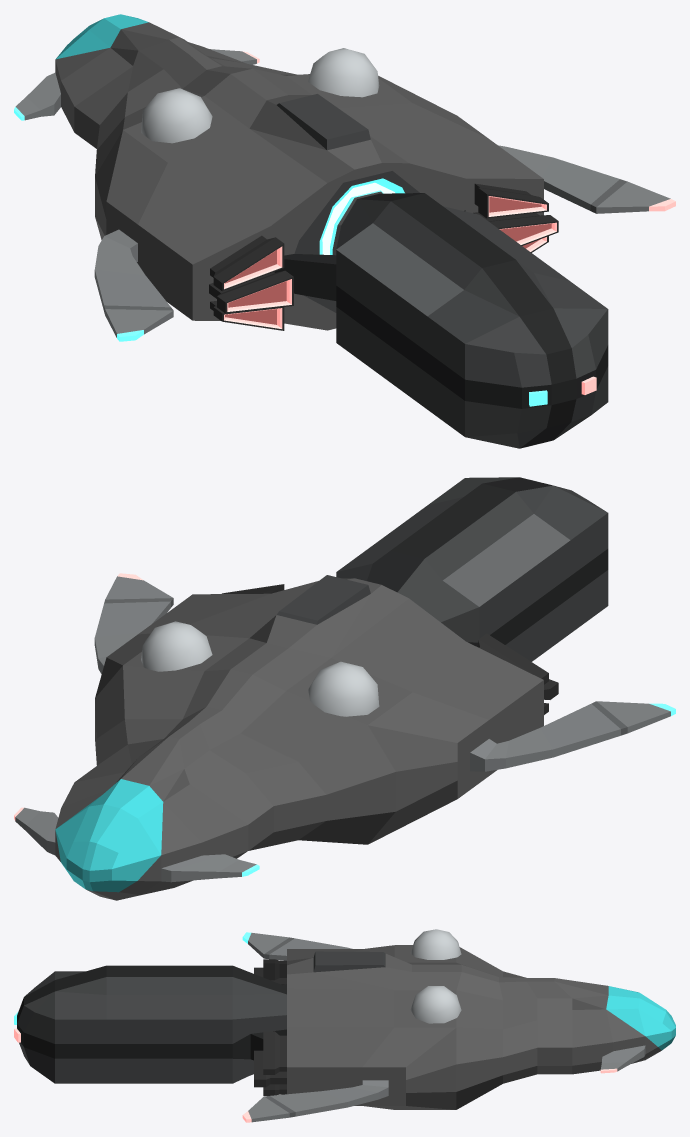
File: Exploration_Frigate_LODGroup.fbx
The picture shows the model from 3 angles, top to bottom: view 1: azimuth 30°, elevation 25°; view 2: azimuth 150°, elevation 25°; view 3: azimuth 270°, elevation 25°; orthographic projection. The views are drawn at different scales.
Visible parts, largest first — view 1: Exploration Frigate_LOD0; view 2: Exploration Frigate_LOD0; view 3: Exploration Frigate_LOD0.
Boxes of the visible parts, box(x1,y1,x2,y2) form: Exploration Frigate_LOD0: box(14, 14, 675, 448); Exploration Frigate_LOD0: box(14, 477, 675, 900); Exploration Frigate_LOD0: box(14, 929, 675, 1122).
Size of what is drawn, in the model's own units: 46.41 by 13.7 by 69.39.
